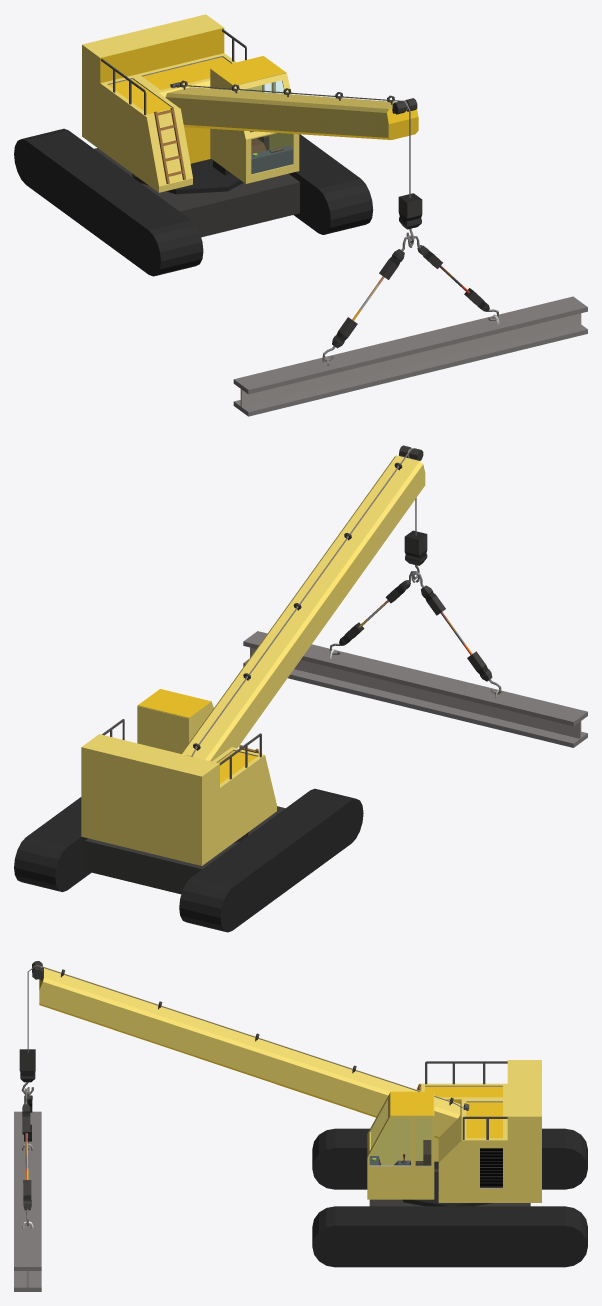
Rendered from cran3.fbx.
3 views of the same model, one above another, from view 1: azimuth 30°, elevation 25°; view 2: azimuth 150°, elevation 25°; view 3: azimuth 270°, elevation 25° (orthographic). The views are drawn at different scales.
Parts seen in each view (by area): view 1: Cabin, Gusenica, Balka, Cran, Kruk.001, Kruk, Stairway, Kruk.002; view 2: Cabin, Gusenica, Cran, Balka, Kruk.001, Kruk, Kruk.002; view 3: Gusenica, Cabin, Cran, Balka, Door, Kruk.002, Kruk.
Boxes of the visible parts, x1,y1,x2,y2 form: Cabin: [82, 14, 296, 194]; Gusenica: [14, 128, 373, 276]; Balka: [233, 296, 587, 416]; Cran: [165, 80, 418, 139]; Kruk.001: [322, 235, 414, 361]; Kruk: [398, 193, 422, 243]; Stairway: [154, 107, 186, 183]; Kruk.002: [408, 236, 499, 320]; Cabin: [81, 689, 276, 865]; Gusenica: [14, 788, 363, 932]; Cran: [181, 445, 425, 761]; Balka: [243, 631, 587, 747]; Kruk.001: [411, 572, 501, 694]; Kruk: [404, 530, 427, 579]; Kruk.002: [329, 571, 419, 654]; Gusenica: [312, 1128, 587, 1267]; Cabin: [367, 1060, 541, 1206]; Cran: [32, 961, 469, 1138]; Balka: [14, 1111, 41, 1291]; Door: [367, 1116, 413, 1199]; Kruk.002: [22, 1088, 31, 1225]; Kruk: [19, 1049, 35, 1094].
Bounding box in the file's own units: 1600 × 1198 × 2498.
